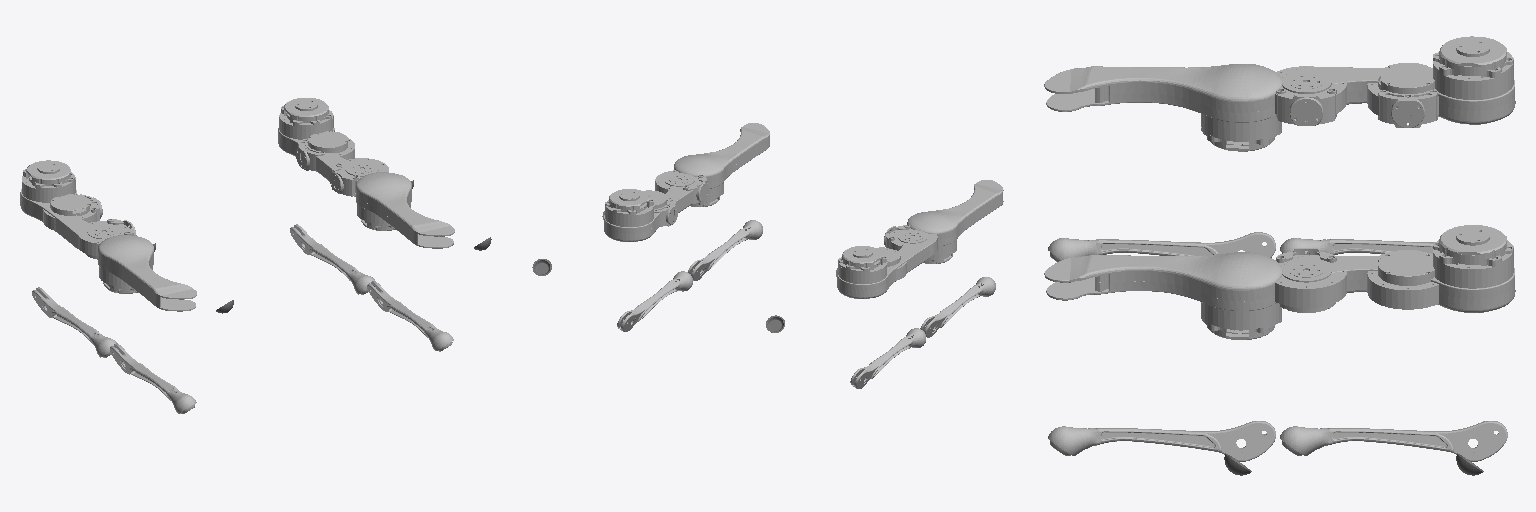
The robot description file, URDF, robot "stray":
<?xml version="1.0" encoding="utf-8"?>
<robot
  name="stray">
  <link
    name="base">
    
    <visual>
      <origin
        xyz="0 0 0"
        rpy="-1.57 0 0" />
      <geometry>
        <mesh
          filename="../meshes_dae/base.dae" scale="1.0 1.0 1.0" />
        <!-- <box size="0.01 0.01 0.01"/> -->
      </geometry>
      <material
        name="">
        <color
          rgba="0.75294 0.75294 0.75294 1" />
      </material>
    </visual>
    <collision>
      <origin
        xyz="0.0 0 0.025"
        rpy="0 0 0" />
      <geometry>
        <!-- <mesh
          filename="../meshes_dae/base.dae" scale="1.0 1.0 1.0" /> -->
        <box size="0.1 0.08 0.125"/>
      </geometry>
    </collision>
  </link>
  <!-- Fixed joint to add dummy inertia link -->
  <joint name="base_to_base_inertia" type="fixed">
    <parent link="base"/>
    <child link="base_inertia"/>
    <origin rpy="0 0 0" xyz="0 0 0"/>
  </joint>
  <!-- Dummy inertia link, because KDL cannot have inertia on the base link -->
  <link name="base_inertia">
    <inertial>
      <origin
        xyz="0.0042084 0.00046194 -0.0029435"
        rpy="0 0 0" />
      <mass
        value="3.274891" />
      <inertia
        ixx="0.011369"
        ixy="0.000061"
        ixz="-0.000121"
        iyy="0.012224"
        iyz="-0.000072"
        izz="0.018636" />
    </inertial>
  </link>
  <link
    name="LF_hip">
    <inertial>
      <origin
        xyz="-0.0033566 0.00035428 -9.8499E-05"
        rpy="0 0 0" />
      <mass
        value="0.605136" />
      <inertia
        ixx="0.000376"
        ixy="-0.000003"
        ixz="0.000000"
        iyy="0.000726"
        iyz="-0.000001"
        izz="0.000446" />
    </inertial>
    <visual>
      <origin
        xyz="0 0 0"
        rpy="-1.57 0 0" />
      <geometry>
        <mesh
          filename="../meshes_dae/LF_hip.dae" scale="1.0 1.0 1.0" />
      </geometry>
      <material
        name="">
        <color
          rgba="0.752941176470588 0.752941176470588 0.752941176470588 1" />
      </material>
    </visual>
    <collision>
      <origin
        xyz="0 0 0"
        rpy="0 0 0" />
      <geometry>
        <mesh
          filename="../meshes_dae/LF_hip.dae" scale="1.0 1.0 1.0" />
        <!-- <box size="0.01 0.01 0.01"/> -->
      </geometry>
    </collision>
  </link>
  <joint
    name="LF_HAA"
    type="revolute">
    <origin
      xyz="0.13205 0.06 0"
      rpy="0 0 0" />
    <parent
      link="base" />
    <child
      link="LF_hip" />
    <axis
      xyz="1 0 0" />
    <limit
      lower="-1"
      upper="1"
      effort="20"
      velocity="45" />
  </joint>
  <link
    name="LF_thigh">
    <inertial>
      <origin
        xyz="-0.0035577 -0.016764 -0.030534"
        rpy="0 0 0" />
      <mass
        value="1.178539" />
      <inertia
        ixx="0.005883"
        ixy="0.000078"
        ixz="-0.000384"
        iyy="0.006054"
        iyz="0.000631"
        izz="0.001155" />
    </inertial>
    <visual>
      <origin
        xyz="0 0 0"
        rpy="-1.57 0 0" />
      <geometry>
        <mesh
          filename="../meshes_dae/LF_thigh.dae" scale="1.0 1.0 1.0" />
      </geometry>
      <material
        name="">
        <color
          rgba="0.752941176470588 0.752941176470588 0.752941176470588 1" />
      </material>
    </visual>
    <collision>
      <origin
        xyz="0 0 0"
        rpy="0 0 0" />
      <geometry>
        <mesh
          filename="../meshes_dae/LF_thigh.dae" scale="1.0 1.0 1.0" />
        <!-- <box size="0.01 0.01 0.01"/> -->
      </geometry>
    </collision>
  </link>
  <joint
    name="LF_HFE"
    type="revolute">
    <origin
      xyz="0 0.077 0"
      rpy="0 0 0" />
    <parent
      link="LF_hip" />
    <child
      link="LF_thigh" />
    <axis
      xyz="0 1 0" />
    <limit
      lower="0"
      upper="1.57"
      effort="20"
      velocity="45" />
  </joint>
  <link
    name="LF_calf">
    <inertial>
      <origin
        xyz="0.0032267 0.0018108 -0.10497"
        rpy="0 0 0" />
      <mass
        value="0.251969" />
      <inertia
        ixx="0.002086"
        ixy="0.000000"
        ixz="0.000002"
        iyy="0.002097"
        iyz="0.000045"
        izz="0.000036" />
    </inertial>
    <visual>
      <origin
        xyz="0 0 0"
        rpy="-1.57 0 0" />
      <geometry>
        <mesh
          filename="../meshes_dae/LF_calf.dae" scale="1.0 1.0 1.0" />
      </geometry>
      <material
        name="">
        <color
          rgba="0.752941176470588 0.752941176470588 0.752941176470588 1" />
      </material>
    </visual>
    <collision>
      <origin
        xyz="0 0 0"
        rpy="0 0 0" />
      <geometry>
        <mesh
          filename="../meshes_dae/LF_calf.dae" scale="1.0 1.0 1.0" />
      </geometry>
    </collision>
  </link>
  <joint
    name="LF_KFE"
    type="revolute">
    <origin
      xyz="0 0 -0.21"
      rpy="0 0 0" />
    <parent
      link="LF_thigh" />
    <child
      link="LF_calf" />
    <axis
      xyz="0 1 0" />
    <limit
      lower="-2.7"
      upper="-1.14"
      effort="20"
      velocity="45" />
  </joint>
  <link
    name="LF_FOOT">
    <inertial>
      <origin
        xyz="0.0019997 0.0051994 0.007454"
        rpy="0 0 0" />
      <mass
        value="0.089225" />
      <inertia
        ixx="0.000027"
        ixy="0.000000"
        ixz="-0.000003"
        iyy="0.000027"
        iyz="-0.000001"
        izz="0.000015" />
    </inertial>
    <visual>
      <origin
        xyz="0 0 0"
        rpy="-1.57 0 0" />
      <geometry>
        <mesh
          filename="../meshes_dae/LF_FOOT.dae" scale="1.0 1.0 1.0" />
      </geometry>
      <material
        name="">
        <color
          rgba="0.486274509803922 0.486274509803922 0.486274509803922 1" />
      </material>
    </visual>
    <collision>
      <origin
        xyz="0 0 0"
        rpy="0 0 0" />
      <geometry>
        <!-- <mesh
          filename="../meshes_dae/LF_FOOT.dae" scale="1.0 1.0 1.0" /> -->
        <sphere radius="0.02"/>
      </geometry>
    </collision>
  </link>
  <joint
    name="LF_foot_fixed"
    type="fixed">
    <origin
      xyz="0 0 -0.21"
      rpy="0 0 0" />
    <parent
      link="LF_calf" />
    <child
      link="LF_FOOT" />
    <axis
      xyz="0 0 0" />
  </joint>
  <link
    name="RF_hip">
    <inertial>
      <origin
        xyz="-0.0033566 -0.00035428 9.8499E-05"
        rpy="0 0 0" />
      <mass
        value="0.605136" />
      <inertia
        ixx="0.000376"
        ixy="0.000003"
        ixz="0.000000"
        iyy="0.000726"
        iyz="-0.000001"
        izz="0.000446" />
    </inertial>
    <visual>
      <origin
        xyz="0 0 0"
        rpy="-1.57 0 0" />
      <geometry>
        <mesh
          filename="../meshes_dae/RF_hip.dae" scale="1.0 1.0 1.0" />
      </geometry>
      <material
        name="">
        <color
          rgba="0.752941176470588 0.752941176470588 0.752941176470588 1" />
      </material>
    </visual>
    <collision>
      <origin
        xyz="0 0 0"
        rpy="0 0 0" />
      <geometry>
        <mesh
          filename="../meshes_dae/RF_hip.dae" scale="1.0 1.0 1.0" />
        <!-- <box size="0.01 0.01 0.01"/> -->
      </geometry>
    </collision>
  </link>
  <joint
    name="RF_HAA"
    type="revolute">
    <origin
      xyz="0.13205 -0.06 0"
      rpy="0 0 0" />
    <parent
      link="base" />
    <child
      link="RF_hip" />
    <axis
      xyz="1 0 0" />
    <limit
      lower="-1"
      upper="1"
      effort="20"
      velocity="45" />
  </joint>
  <link
    name="RF_thigh">
    <inertial>
      <origin
        xyz="-0.0035577 0.016764 -0.030534"
        rpy="0 0 0" />
      <mass
        value="1.178539" />
      <inertia
        ixx="0.005883"
        ixy="-0.000078"
        ixz="-0.000384"
        iyy="0.006054"
        iyz="-0.000631"
        izz="0.001155" />
    </inertial>
    <visual>
      <origin
        xyz="0 0 0"
        rpy="-1.57 0 0" />
      <geometry>
        <mesh
          filename="../meshes_dae/RF_thigh.dae" scale="1.0 1.0 1.0" />
      </geometry>
      <material
        name="">
        <color
          rgba="0.752941176470588 0.752941176470588 0.752941176470588 1" />
      </material>
    </visual>
    <collision>
      <origin
        xyz="0 0 0"
        rpy="0 0 0" />
      <geometry>
        <mesh
          filename="../meshes_dae/RF_thigh.dae" scale="1.0 1.0 1.0" />
        <!-- <box size="0.01 0.01 0.01"/> -->
      </geometry>
    </collision>
  </link>
  <joint
    name="RF_HFE"
    type="revolute">
    <origin
      xyz="0 -0.077 0"
      rpy="0 0 0" />
    <parent
      link="RF_hip" />
    <child
      link="RF_thigh" />
    <axis
      xyz="0 1 0" />
    <limit
      lower="0"
      upper="1.57"
      effort="20"
      velocity="45" />
  </joint>
  <link
    name="RF_calf">
    <inertial>
      <origin
        xyz="0.0032267 0.0018108 -0.10497"
        rpy="0 0 0" />
      <mass
        value="0.251969" />
      <inertia
        ixx="0.002086"
        ixy="0.000000"
        ixz="0.000002"
        iyy="0.002097"
        iyz="0.000045"
        izz="0.000036" />
    </inertial>
    <visual>
      <origin
        xyz="0 0 0"
        rpy="-1.57 0 0" />
      <geometry>
        <mesh
          filename="../meshes_dae/RF_calf.dae" scale="1.0 1.0 1.0" />
      </geometry>
      <material
        name="">
        <color
          rgba="0.752941176470588 0.752941176470588 0.752941176470588 1" />
      </material>
    </visual>
    <collision>
      <origin
        xyz="0 0 0"
        rpy="0 0 0" />
      <geometry>
        <mesh
          filename="../meshes_dae/RF_calf.dae" scale="1.0 1.0 1.0" />
      </geometry>
    </collision>
  </link>
  <joint
    name="RF_KFE"
    type="revolute">
    <origin
      xyz="0 0 -0.21"
      rpy="0 0 0" />
    <parent
      link="RF_thigh" />
    <child
      link="RF_calf" />
    <axis
      xyz="0 1 0" />
    <limit
      lower="-2.7"
      upper="-1.14"
      effort="20"
      velocity="45" />
  </joint>
  <link
    name="RF_FOOT">
    <inertial>
      <origin
        xyz="0.0019997 0.0051994 0.007454"
        rpy="0 0 0" />
      <mass
        value="0.089225" />
      <inertia
        ixx="0.000027"
        ixy="0.000000"
        ixz="-0.000003"
        iyy="0.000027"
        iyz="-0.000001"
        izz="0.000015" />
    </inertial>
    <visual>
      <origin
        xyz="0 0 0"
        rpy="-1.57 0 0" />
      <geometry>
        <mesh
          filename="../meshes_dae/RF_FOOT.dae" scale="1.0 1.0 1.0" />
      </geometry>
      <material
        name="">
        <color
          rgba="0.486274509803922 0.486274509803922 0.486274509803922 1" />
      </material>
    </visual>
    <collision>
      <origin
        xyz="0 0 0"
        rpy="0 0 0" />
      <geometry>
        <!-- <mesh
          filename="../meshes_dae/RF_FOOT.dae" scale="1.0 1.0 1.0" /> -->
        <sphere radius="0.02"/>
      </geometry>
    </collision>
  </link>
  <joint
    name="RF_foot_fixed"
    type="fixed">
    <origin
      xyz="0 0 -0.21"
      rpy="0 0 0" />
    <parent
      link="RF_calf" />
    <child
      link="RF_FOOT" />
    <axis
      xyz="0 0 0" />
  </joint>
  <link
    name="Spine">
    <inertial>
      <origin
        xyz="0.0071126 -3.1819E-05 -0.0033033"
        rpy="0 0 0" />
      <mass
        value="1.063830" />
      <inertia
        ixx="0.001086"
        ixy="0.000000"
        ixz="-0.000026"
        iyy="0.001221"
        iyz="0.000000"
        izz="0.001543" />
    </inertial>
    <visual>
      <origin
        xyz="0 0 0"
        rpy="-1.57 0 0" />
      <geometry>
        <mesh
          filename="../meshes_dae/Spine.dae" scale="1.0 1.0 1.0" />
      </geometry>
      <material
        name="">
        <color
          rgba="0.752941176470588 0.752941176470588 0.752941176470588 1" />
      </material>
    </visual>
    <collision>
      <origin
        xyz="0 0 0"
        rpy="0 0 0" />
      <geometry>
        <!-- <mesh
          filename="../meshes_dae/Spine.dae" scale="1.0 1.0 1.0" /> -->
        <box size="0.01 0.01 0.01"/>
      </geometry>
    </collision>
  </link>
  <joint
    name="spine_roll"
    type="revolute">
    <origin
      xyz="-0.15 0 0"
      rpy="0 0 0" />
    <parent
      link="base" />
    <child
      link="Spine" />
    <axis
      xyz="1 0 0" />
    <limit
      lower="-1"
      upper="1"
      effort="20"
      velocity="45" />
  </joint>
  <link
    name="base_hind">
    <inertial>
      <origin
        xyz="-0.127890 -0.00064148 0.010896"
        rpy="0 0 0" />
      <mass
        value="3.538370" />
      <inertia
        ixx="0.014945"
        ixy="0.000005"
        ixz="-0.000833"
        iyy="0.012808"
        iyz="-0.000022"
        izz="0.017159" />
    </inertial>
    <visual>
      <origin
        xyz="0 0 0"
        rpy="-1.57 0 0" />
      <geometry>
        <mesh
          filename="../meshes_dae/base_hind.dae" scale="1.0 1.0 1.0" />
        <!-- <box size="0.01 0.01 0.01"/> -->
      </geometry>
      <material
        name="">
        <color
          rgba="0.752941176470588 0.752941176470588 0.752941176470588 1" />
      </material>
    </visual>
    <collision>
      <origin
        xyz="-0.1 0 0"
        rpy="0 0 0" />
      <geometry>
        <!-- <mesh
          filename="../meshes_dae/base_hind.dae" scale="1.0 1.0 1.0" /> -->
        <box size="0.01 0.01 0.01"/>
      </geometry>
    </collision>
  </link>
  <joint
    name="spine_yaw"
    type="revolute">
    <origin
      xyz="0 0 0"
      rpy="0 0 0" />
    <parent
      link="Spine" />
    <child
      link="base_hind" />
    <axis
      xyz="0 0 1" />
    <limit
      lower="-1"
      upper="1"
      effort="20"
      velocity="45" />
  </joint>
  <link
    name="LH_hip">
    <inertial>
      <origin
        xyz="0.0033566 0.00035428 9.8499E-05"
        rpy="0 0 0" />
      <mass
        value="0.605136" />
      <inertia
        ixx="0.000376"
        ixy="0.000003"
        ixz="0.000000"
        iyy="0.000726"
        iyz="0.000001"
        izz="0.000446" />
    </inertial>
    <visual>
      <origin
        xyz="0 0 0"
        rpy="-1.57 0 0" />
      <geometry>
        <mesh
          filename="../meshes_dae/LH_hip.dae" scale="1.0 1.0 1.0" />
      </geometry>
      <material
        name="">
        <color
          rgba="0.752941176470588 0.752941176470588 0.752941176470588 1" />
      </material>
    </visual>
    <collision>
      <origin
        xyz="0 0 0"
        rpy="0 0 0" />
      <geometry>
        <mesh
          filename="../meshes_dae/LH_hip.dae" scale="1.0 1.0 1.0" />
        <!-- <box size="0.01 0.01 0.01"/> -->
      </geometry>
    </collision>
  </link>
  <joint
    name="LH_HAA"
    type="revolute">
    <origin
      xyz="-0.24505 0.06 0"
      rpy="0 0 0" />
    <parent
      link="base_hind" />
    <child
      link="LH_hip" />
    <axis
      xyz="1 0 0" />
    <limit
      lower="-1"
      upper="1"
      effort="20"
      velocity="45" />
  </joint>
  <link
    name="LH_thigh">
    <inertial>
      <origin
        xyz="-0.0035577 -0.016764 -0.030534"
        rpy="0 0 0" />
      <mass
        value="1.178539" />
      <inertia
        ixx="0.005883"
        ixy="0.000078"
        ixz="-0.000384"
        iyy="0.006054"
        iyz="0.000631"
        izz="0.001155" />
    </inertial>
    <visual>
      <origin
        xyz="0 0 0"
        rpy="-1.57 0 0" />
      <geometry>
        <mesh
          filename="../meshes_dae/LH_thigh.dae" scale="1.0 1.0 1.0" />
      </geometry>
      <material
        name="">
        <color
          rgba="0.752941176470588 0.752941176470588 0.752941176470588 1" />
      </material>
    </visual>
    <collision>
      <origin
        xyz="0 0 0"
        rpy="0 0 0" />
      <geometry>
        <mesh
          filename="../meshes_dae/LH_thigh.dae" scale="1.0 1.0 1.0" />
        <!-- <box size="0.01 0.01 0.01"/> -->
      </geometry>
    </collision>
  </link>
  <joint
    name="LH_HFE"
    type="revolute">
    <origin
      xyz="0 0.077 0"
      rpy="0 0 0" />
    <parent
      link="LH_hip" />
    <child
      link="LH_thigh" />
    <axis
      xyz="0 1 0" />
    <limit
      lower="0"
      upper="1.57"
      effort="20"
      velocity="45" />
  </joint>
  <link
    name="LH_calf">
    <inertial>
      <origin
        xyz="0.0032267 0.0018108 -0.10497"
        rpy="0 0 0" />
      <mass
        value="0.251969" />
      <inertia
        ixx="0.002086"
        ixy="0.000000"
        ixz="0.000002"
        iyy="0.002097"
        iyz="0.000045"
        izz="0.000036" />
    </inertial>
    <visual>
      <origin
        xyz="0 0 0"
        rpy="-1.57 0 0" />
      <geometry>
        <mesh
          filename="../meshes_dae/LH_calf.dae" scale="1.0 1.0 1.0" />
      </geometry>
      <material
        name="">
        <color
          rgba="0.752941176470588 0.752941176470588 0.752941176470588 1" />
      </material>
    </visual>
    <collision>
      <origin
        xyz="0 0 0"
        rpy="0 0 0" />
      <geometry>
        <mesh
          filename="../meshes_dae/LH_calf.dae" scale="1.0 1.0 1.0" />
      </geometry>
    </collision>
  </link>
  <joint
    name="LH_KFE"
    type="revolute">
    <origin
      xyz="0 0 -0.21"
      rpy="0 0 0" />
    <parent
      link="LH_thigh" />
    <child
      link="LH_calf" />
    <axis
      xyz="0 1 0" />
    <limit
      lower="-2.7"
      upper="-1.14"
      effort="20"
      velocity="45" />
  </joint>
  <link
    name="LH_FOOT">
    <inertial>
      <origin
        xyz="0.0019997 0.0051994 0.007454"
        rpy="0 0 0" />
      <mass
        value="0.089225" />
      <inertia
        ixx="0.000027"
        ixy="0.000000"
        ixz="-0.000003"
        iyy="0.000027"
        iyz="-0.000001"
        izz="0.000015" />
    </inertial>
    <visual>
      <origin
        xyz="0 0 0"
        rpy="-1.57 0 0" />
      <geometry>
        <mesh
          filename="../meshes_dae/LH_FOOT.dae" scale="1.0 1.0 1.0" />
      </geometry>
      <material
        name="">
        <color
          rgba="0.486274509803922 0.486274509803922 0.486274509803922 1" />
      </material>
    </visual>
    <collision>
      <origin
        xyz="0 0 0"
        rpy="0 0 0" />
      <geometry>
        <!-- <mesh
          filename="../meshes_dae/LH_FOOT.dae" scale="1.0 1.0 1.0" /> -->
        <sphere radius="0.02"/>
      </geometry>
    </collision>
  </link>
  <joint
    name="LH_foot_fixed"
    type="fixed">
    <origin
      xyz="0 0 -0.21"
      rpy="0 0 0" />
    <parent
      link="LH_calf" />
    <child
      link="LH_FOOT" />
    <axis
      xyz="0 0 0" />
  </joint>
  <link
    name="RH_hip">
    <inertial>
      <origin
        xyz="0.0033566 -0.00035428 -9.8499E-05"
        rpy="0 0 0" />
      <mass
        value="0.605136" />
      <inertia
        ixx="0.000376"
        ixy="-0.000003"
        ixz="0.000000"
        iyy="0.000726"
        iyz="0.000001"
        izz="0.000446" />
    </inertial>
    <visual>
      <origin
        xyz="0 0 0"
        rpy="-1.57 0 0" />
      <geometry>
        <mesh
          filename="../meshes_dae/RH_hip.dae" scale="1.0 1.0 1.0" />
      </geometry>
      <material
        name="">
        <color
          rgba="0.752941176470588 0.752941176470588 0.752941176470588 1" />
      </material>
    </visual>
    <collision>
      <origin
        xyz="0 0 0"
        rpy="0 0 0" />
      <geometry>
        <mesh
          filename="../meshes_dae/RH_hip.dae" scale="1.0 1.0 1.0" />
        <!-- <box size="0.01 0.01 0.01"/> -->
      </geometry>
    </collision>
  </link>
  <joint
    name="RH_HAA"
    type="revolute">
    <origin
      xyz="-0.24505 -0.06 0"
      rpy="0 0 0" />
    <parent
      link="base_hind" />
    <child
      link="RH_hip" />
    <axis
      xyz="1 0 0" />
    <limit
      lower="-1"
      upper="1"
      effort="20"
      velocity="45" />
  </joint>
  <link
    name="RH_thigh">
    <inertial>
      <origin
        xyz="-0.0035577 0.016764 -0.030534"
        rpy="0 0 0" />
      <mass
        value="1.178539" />
      <inertia
        ixx="0.005883"
        ixy="-0.000078"
        ixz="-0.000384"
        iyy="0.006054"
        iyz="-0.000631"
        izz="0.001155" />
    </inertial>
    <visual>
      <origin
        xyz="0 0 0"
        rpy="-1.57 0 0" />
      <geometry>
        <mesh
          filename="../meshes_dae/RH_thigh.dae" scale="1.0 1.0 1.0" />
      </geometry>
      <material
        name="">
        <color
          rgba="0.752941176470588 0.752941176470588 0.752941176470588 1" />
      </material>
    </visual>
    <collision>
      <origin
        xyz="0 0 0"
        rpy="0 0 0" />
      <geometry>
        <mesh
          filename="../meshes_dae/RH_thigh.dae" scale="1.0 1.0 1.0" />
        <!-- <box size="0.01 0.01 0.01"/> -->
      </geometry>
    </collision>
  </link>
  <joint
    name="RH_HFE"
    type="revolute">
    <origin
      xyz="0 -0.077 0"
      rpy="0 0 0" />
    <parent
      link="RH_hip" />
    <child
      link="RH_thigh" />
    <axis
      xyz="0 1 0" />
    <limit
      lower="0"
      upper="1.57"
      effort="20"
      velocity="45" />
  </joint>
  <link
    name="RH_calf">
    <inertial>
      <origin
        xyz="0.0032267 0.0018108 -0.10497"
        rpy="0 0 0" />
      <mass
        value="0.251969" />
      <inertia
        ixx="0.002086"
        ixy="0.000000"
        ixz="0.000002"
        iyy="0.002097"
        iyz="0.000045"
        izz="0.000036" />
    </inertial>
    <visual>
      <origin
        xyz="0 0 0"
        rpy="-1.57 0 0" />
      <geometry>
        <mesh
          filename="../meshes_dae/RH_calf.dae" scale="1.0 1.0 1.0" />
      </geometry>
      <material
        name="">
        <color
          rgba="0.752941176470588 0.752941176470588 0.752941176470588 1" />
      </material>
    </visual>
    <collision>
      <origin
        xyz="0 0 0"
        rpy="0 0 0" />
      <geometry>
        <mesh
          filename="../meshes_dae/RH_calf.dae" scale="1.0 1.0 1.0" />
      </geometry>
    </collision>
  </link>
  <joint
    name="RH_KFE"
    type="revolute">
    <origin
      xyz="0 0 -0.21"
      rpy="0 0 0" />
    <parent
      link="RH_thigh" />
    <child
      link="RH_calf" />
    <axis
      xyz="0 1 0" />
    <limit
      lower="-2.7"
      upper="-1.14"
      effort="20"
      velocity="45" />
  </joint>
  <link
    name="RH_FOOT">
    <inertial>
      <origin
        xyz="0.0019997 0.0051994 0.007454"
        rpy="0 0 0" />
      <mass
        value="0.089225" />
      <inertia
        ixx="0.000027"
        ixy="0.000000"
        ixz="-0.000003"
        iyy="0.000027"
        iyz="-0.000001"
        izz="0.000015" />
    </inertial>
    <visual>
      <origin
        xyz="0 0 0"
        rpy="-1.57 0 0" />
      <geometry>
        <mesh
          filename="../meshes_dae/RH_FOOT.dae" scale="1.0 1.0 1.0" />
      </geometry>
      <material
        name="">
        <color
          rgba="0.486274509803922 0.486274509803922 0.486274509803922 1" />
      </material>
    </visual>
    <collision>
      <origin
        xyz="0 0 0"
        rpy="0 0 0" />
      <geometry>
        <!-- <mesh
          filename="../meshes_dae/RH_FOOT.dae" scale="1.0 1.0 1.0" /> -->
        <sphere radius="0.02"/>
      </geometry>
    </collision>
  </link>
  <joint
    name="RH_foot_fixed"
    type="fixed">
    <origin
      xyz="0 0 -0.21"
      rpy="0 0 0" />
    <parent
      link="RH_calf" />
    <child
      link="RH_FOOT" />
    <axis
      xyz="0 0 0" />
  </joint>
</robot>

--- What the picture shows (computed from the rendered views, not written in the file) ---
Views: 3 orthographic renders of the robot side by side, from view 1: azimuth 30°, elevation 25°; view 2: azimuth 150°, elevation 25°; view 3: azimuth 270°, elevation 25°.
Model stray with 20 links and 19 joints (14 revolute, 5 fixed), rooted at base, posed all joints at 0 but 4 set to mid-range because 0 is outside their limits (LF_KFE = -1.92, RF_KFE = -1.92, LH_KFE = -1.92, RH_KFE = -1.92).
Visible links, largest first — view 1: RF_thigh, RH_thigh, LH_thigh, LF_thigh, LF_hip, RH_calf, RF_calf, LH_calf, LF_calf, LH_hip, RF_hip, RH_hip; view 2: LH_thigh, RH_thigh, RF_thigh, LF_thigh, LF_calf, LH_calf, RH_calf, RF_calf, RF_hip, RH_hip, LF_hip; view 3: RF_thigh, RH_thigh, LH_thigh, LF_thigh, LF_calf, RF_calf, LH_hip, RF_hip, LF_hip, RH_calf, RH_hip, LH_calf.
Boxes of the visible links, x1,y1,x2,y2 form: RF_thigh: (356,172,454,248); RH_thigh: (98,235,196,311); LH_thigh: (20,160,105,248); LF_thigh: (278,98,363,181); LF_hip: (296,131,354,171); RH_calf: (110,343,196,413); RF_calf: (367,281,453,351); LH_calf: (32,287,117,357); LF_calf: (290,224,374,294); LH_hip: (43,194,102,230); RF_hip: (330,158,388,196); RH_hip: (78,219,136,259); LH_thigh: (837,234,932,298); RH_thigh: (907,180,1003,263); RF_thigh: (674,123,769,206); LF_thigh: (604,176,699,241); LF_calf: (617,271,692,331); LH_calf: (850,328,925,388); RH_calf: (920,277,995,337); RF_calf: (688,220,762,280); RF_hip: (655,170,708,203); RH_hip: (884,225,937,255); LF_hip: (644,190,677,226); RF_thigh: (1044,252,1282,339); RH_thigh: (1044,64,1282,151); LH_thigh: (1282,36,1515,124); LF_thigh: (1282,225,1515,312); LF_calf: (1280,421,1507,461); RF_calf: (1048,421,1275,461); LH_hip: (1367,63,1438,127); RF_hip: (1275,248,1346,312); LF_hip: (1367,250,1438,309); RH_calf: (1048,232,1275,261); RH_hip: (1275,66,1346,125); LH_calf: (1280,238,1433,254).
Bounding box of the posed robot: 0.7944 × 0.5567 × 0.2933 m (x, y, z).
16 mesh visuals loaded from 19 distinct referenced files (16 Collada DAE); not drawn: 3 (reference not matched to a file when rendering).
